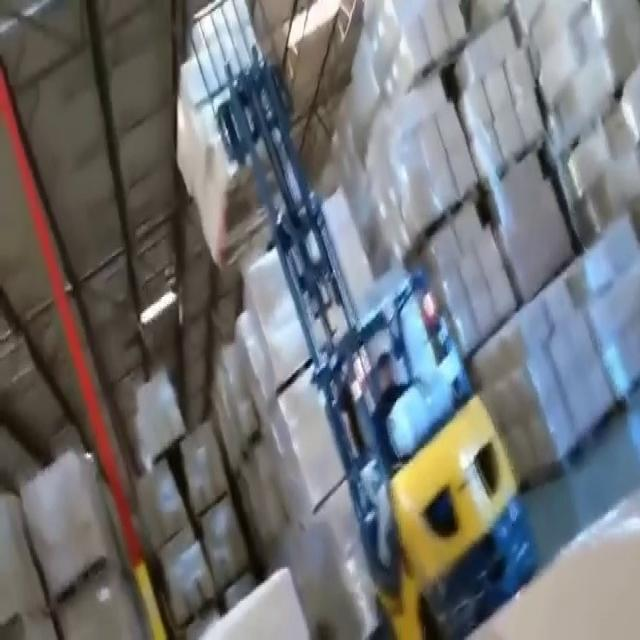Chariot elevateur: (318, 258, 538, 640)
